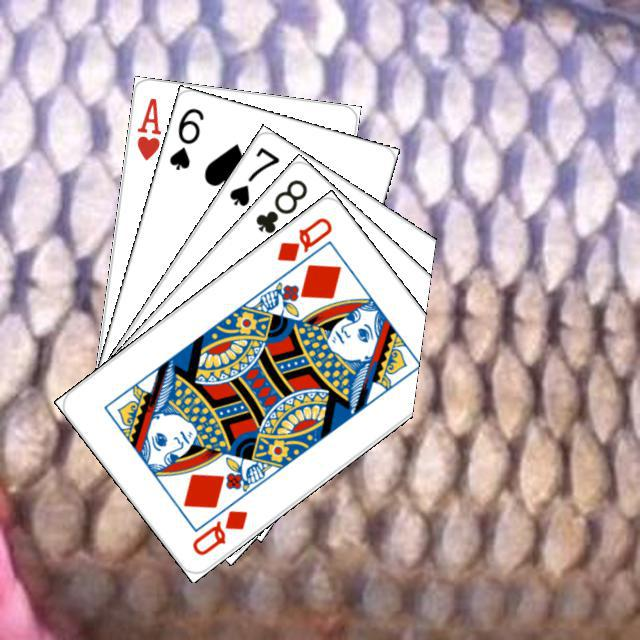6s: (164, 102, 206, 172)
7s: (224, 142, 281, 209)
8c: (250, 174, 310, 236)
Ah: (131, 92, 163, 162)
Qd: (187, 504, 249, 558), (271, 212, 334, 264)
